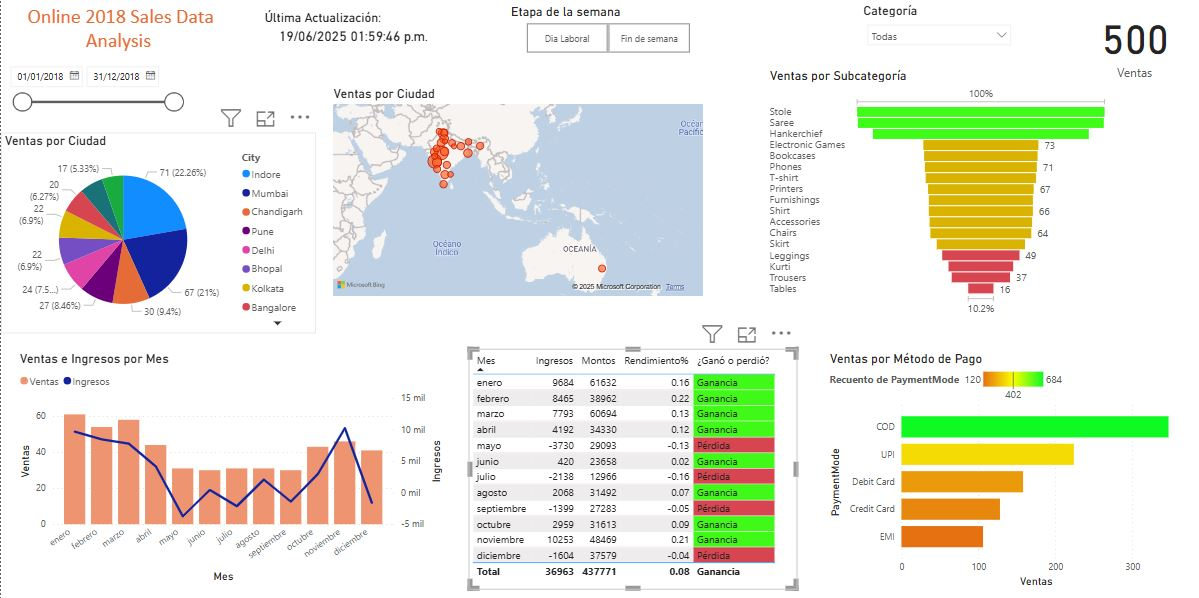

This screenshot's page, from the dashboard's own definition file:
{"tool":"powerbi","page":{"name":"Página 1","canvas":[1600,800],"ordinal":0},"visuals":[{"type":"slicer","fields":{"Values":["Calendario.Date"]},"box":[0,78.3,251.7,85],"z":0},{"type":"textbox","box":[0,0,318.9,77.8],"z":1000},{"type":"pieChart","title":"Ventas por Ciudad","fields":{"Category":["BD_Ordenes.City"],"Y":["Medidas.Ventas"]},"box":[0,177.1,420,267.1],"z":2000},{"type":"card","fields":{"Values":["Medidas.Venta"]},"box":[1423.3,0,176.7,115],"z":3000},{"type":"card","title":"Última Actualización:","fields":{"Values":["Medidas.Ahora"]},"box":[346.7,13.3,246.7,51.7],"z":4000},{"type":"map","title":"Ventas por Ciudad","fields":{"Category":["BD_Ordenes.City"],"Size":["Medidas.Ventas"]},"box":[438.6,115.7,502.9,284.3],"z":6000},{"type":"slicer","title":"Etapa de la semana","fields":{"Values":["BD_Ordenes.Fin de Semana?"]},"box":[674.3,5.7,267.1,71.4],"z":6001},{"type":"lineClusteredColumnComboChart","title":"Ventas e Ingresos por Mes","fields":{"Y2":["Medidas.Ingresos"],"Y":["Medidas.Ventas"],"Category":["Calendario.Date.Variación.Jerarquía de fechas.Mes"]},"box":[20,468.3,573.3,313.3],"z":6002},{"type":"funnel","title":"Ventas por Subcategoría","fields":{"Category":["BD_Detalles.Sub-Category"],"Y":["Medidas.Ventas"]},"box":[1020,90,461.7,335],"z":6003},{"type":"slicer","title":"Categoría","fields":{"Values":["BD_Detalles.Category"]},"box":[1145,3.3,211.7,76.7],"z":6004},{"type":"tableEx","fields":{"Values":["Calendario.Date.Variación.Jerarquía de fechas.Mes","Medidas.Ingresos","Medidas.Montos","Medidas.Rendimiento%","Medidas.¿Ganó o perdió?"]},"box":[623.3,465,438.3,321.7],"z":6006},{"type":"clusteredBarChart","title":"Ventas por Método de Pago","fields":{"Category":["BD_Detalles.PaymentMode"],"Y":["Medidas.Ventas"]},"box":[1100,468.3,475,320],"z":6007}]}

Visuals, with their boxes in screenshot pixels (x1, y1, x2, y2), scaled from the page's 1600x800 canvas onto the 1199x598 screenshot:
slicer - Calendario.Date: {"x1": 0, "y1": 59, "x2": 189, "y2": 122}
textbox: {"x1": 0, "y1": 0, "x2": 239, "y2": 58}
"Ventas por Ciudad" pieChart: {"x1": 0, "y1": 132, "x2": 315, "y2": 332}
card - Medidas.Venta: {"x1": 1067, "y1": 0, "x2": 1198, "y2": 86}
"Última Actualización:" card: {"x1": 260, "y1": 10, "x2": 445, "y2": 49}
"Ventas por Ciudad" map: {"x1": 329, "y1": 86, "x2": 706, "y2": 299}
"Etapa de la semana" slicer: {"x1": 505, "y1": 4, "x2": 705, "y2": 58}
"Ventas e Ingresos por Mes" lineClusteredColumnComboChart: {"x1": 15, "y1": 350, "x2": 445, "y2": 584}
"Ventas por Subcategoría" funnel: {"x1": 764, "y1": 67, "x2": 1110, "y2": 318}
"Categoría" slicer: {"x1": 858, "y1": 2, "x2": 1017, "y2": 60}
tableEx - Calendario.Date.Variación.Jerarquía de fechas.Mes x Medidas.Ingresos: {"x1": 467, "y1": 348, "x2": 796, "y2": 588}
"Ventas por Método de Pago" clusteredBarChart: {"x1": 824, "y1": 350, "x2": 1180, "y2": 589}
